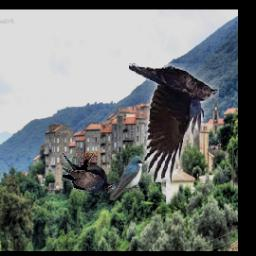Crow: (128, 63, 218, 182), (63, 153, 116, 194)
Swallow: (109, 157, 144, 201)
